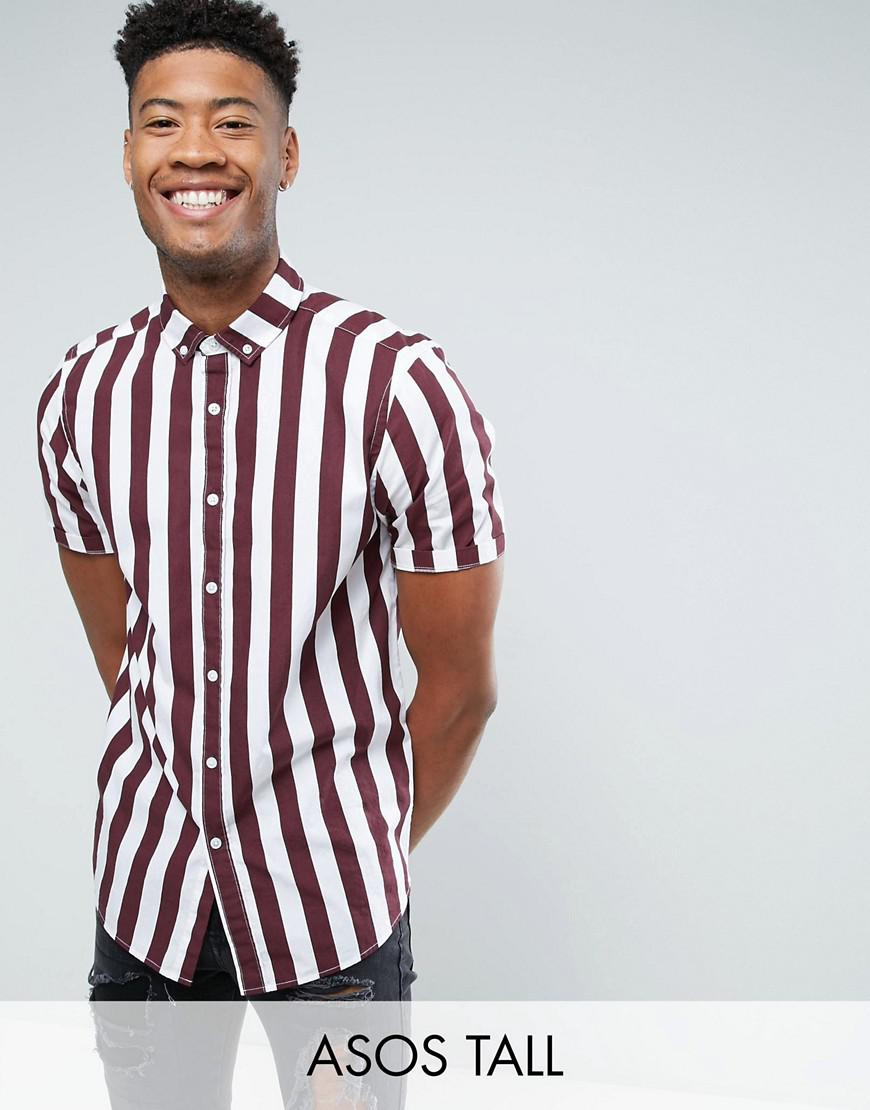teeshirt: (25, 295, 505, 968)
